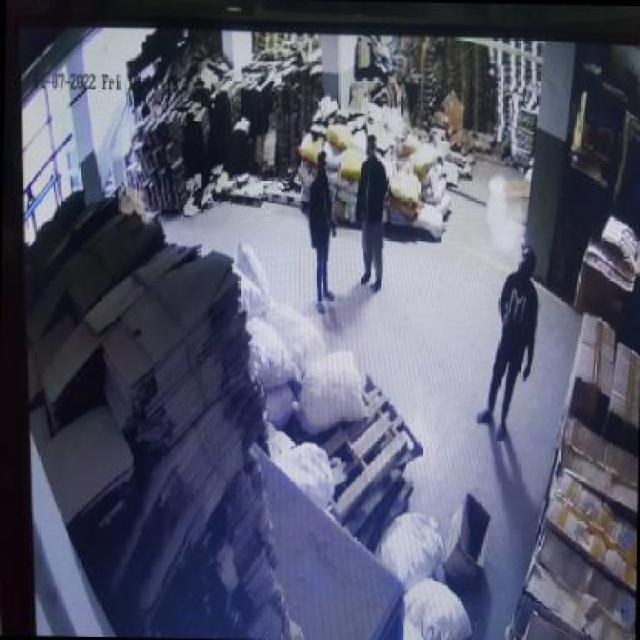fire: (484, 170, 524, 272)
